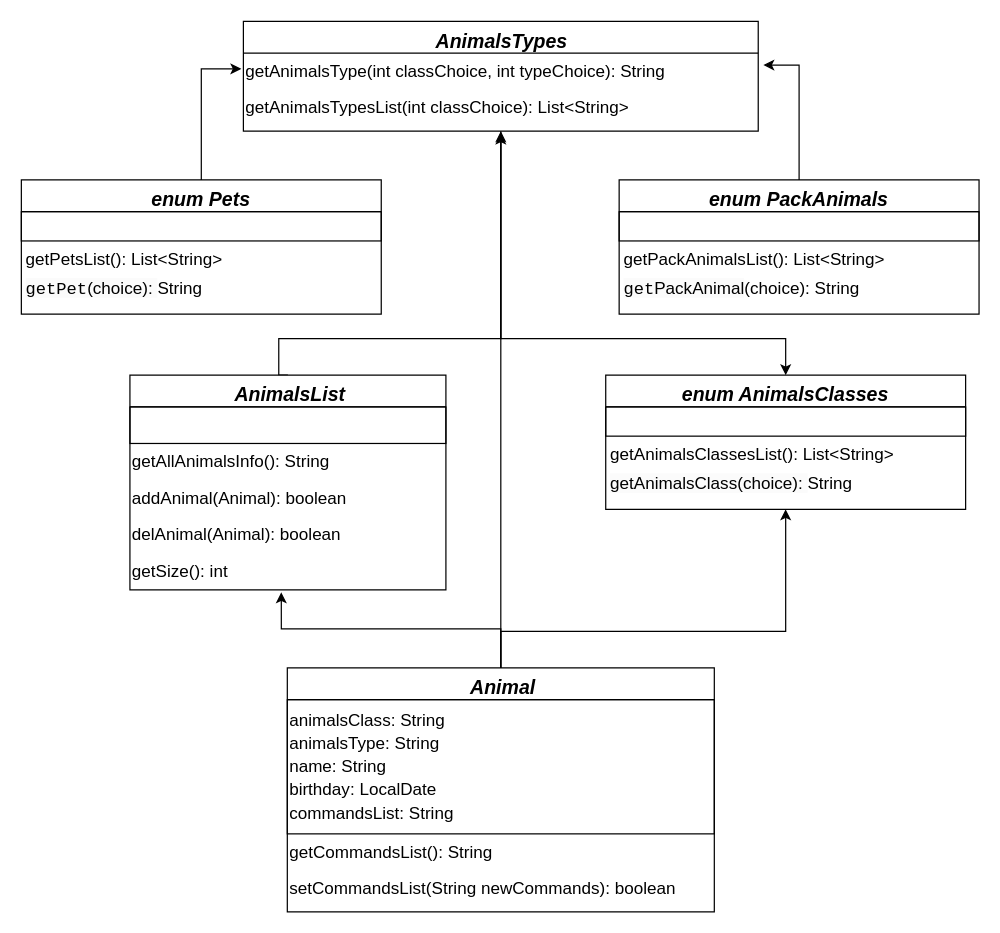
Some shapes in this 1000 by 933 pixel diagram are drawn without their labels. The shapes that lost their labels are listed below. From the top down, each one's centre as x and y in pixels, then its label:
the point at 200,225: enum Dog, Cat, Hamster;
the point at 798,225: enum Horse, Camel, Donkey;
the point at 287,424: animalsList: List<Animal>
the point at 785,421: enum Pets, PackAnimals;
